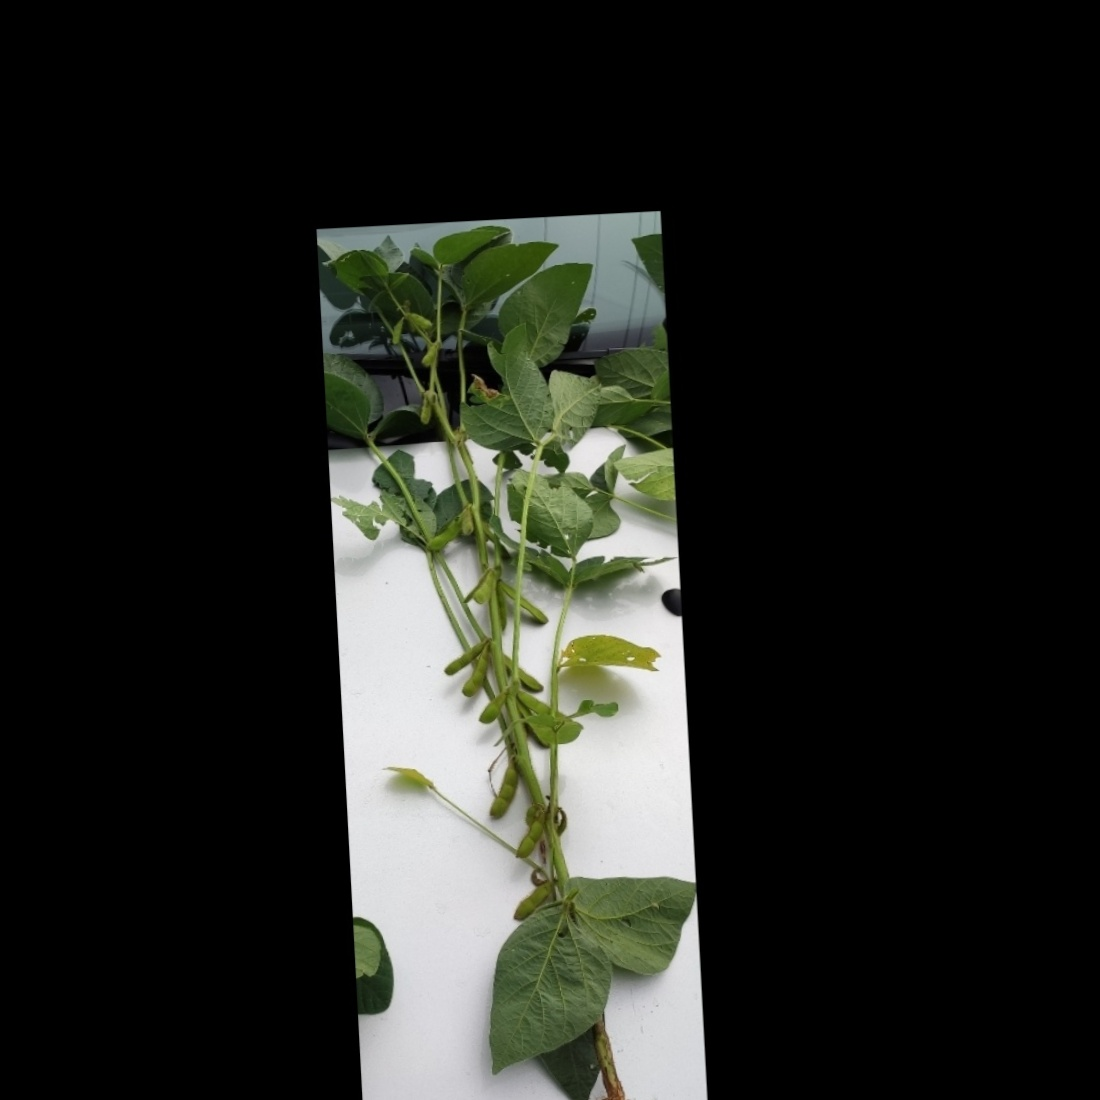pod: (497, 577, 552, 629), (482, 760, 522, 829), (498, 876, 557, 923), (437, 640, 487, 676), (449, 651, 485, 700), (511, 814, 545, 864), (425, 515, 464, 551), (471, 567, 505, 604), (415, 390, 436, 430), (402, 309, 435, 331), (416, 340, 442, 368), (386, 316, 406, 350), (459, 498, 475, 538)
soy: (332, 232, 702, 1100)
